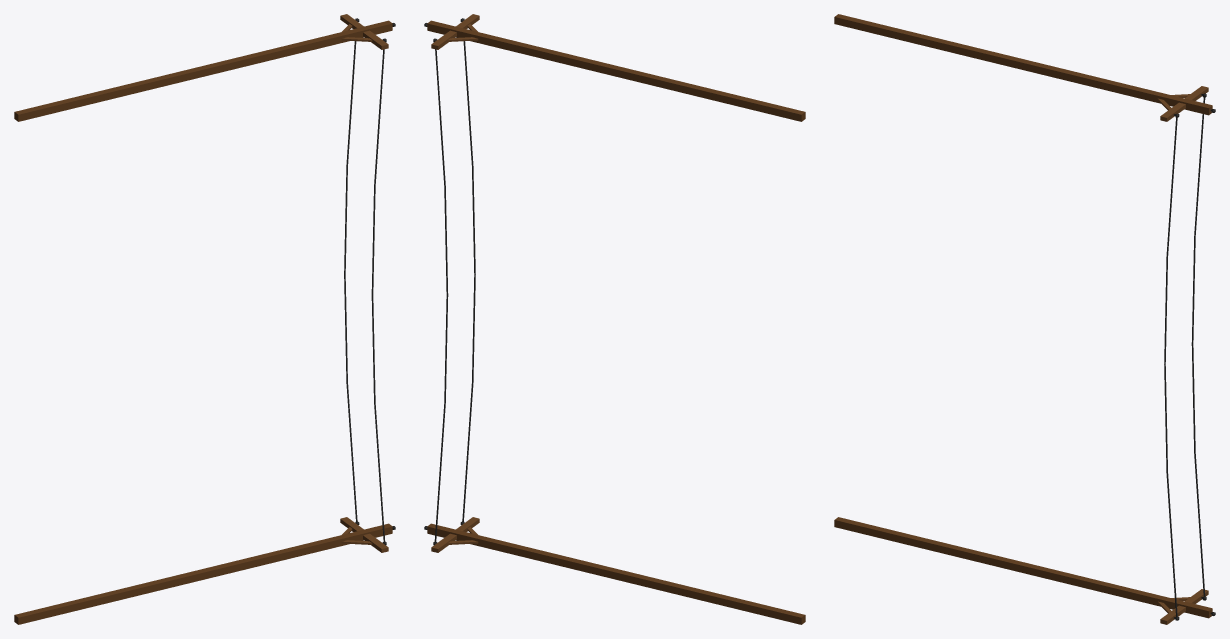
The model's file is PowerLineBroke.fbx.
3 views of the same model, side by side, from view 1: azimuth 30°, elevation 25°; view 2: azimuth 150°, elevation 25°; view 3: azimuth 330°, elevation 25° (orthographic).
Visible parts, largest first — view 1: PowerLine_fracturepart5, PowerLine_fracturepart8, PowerLine_fracturepart15, PowerLine_fracturepart1, PowerLine_fracturepart17, PowerLine_fracturepart7_5, PowerLine_fracturepart13_6, PowerLine_fracturepart13_5; view 2: PowerLine_fracturepart5, PowerLine_fracturepart8, PowerLine_fracturepart15, PowerLine_fracturepart1, PowerLine_fracturepart17, PowerLine_fracturepart13_6, PowerLine_fracturepart13_5, PowerLine_fracturepart7_5; view 3: PowerLine_fracturepart5, PowerLine_fracturepart8, PowerLine_fracturepart15, PowerLine_fracturepart1, PowerLine_fracturepart17, PowerLine_fracturepart13_6, PowerLine_fracturepart13_5, PowerLine_fracturepart7_5.
Boxes of the visible parts, x1,y1,x2,y2 form: PowerLine_fracturepart5: (164, 555, 261, 588); PowerLine_fracturepart8: (258, 532, 356, 565); PowerLine_fracturepart15: (14, 95, 87, 121); PowerLine_fracturepart1: (138, 67, 202, 91); PowerLine_fracturepart17: (198, 53, 260, 76); PowerLine_fracturepart7_5: (371, 49, 384, 295); PowerLine_fracturepart13_6: (371, 295, 385, 542); PowerLine_fracturepart13_5: (344, 275, 357, 518); PowerLine_fracturepart5: (558, 555, 656, 588); PowerLine_fracturepart8: (463, 532, 561, 565); PowerLine_fracturepart15: (732, 95, 805, 121); PowerLine_fracturepart1: (617, 67, 681, 91); PowerLine_fracturepart17: (559, 53, 620, 76); PowerLine_fracturepart13_6: (462, 275, 475, 522); PowerLine_fracturepart13_5: (435, 295, 448, 538); PowerLine_fracturepart7_5: (463, 41, 475, 275); PowerLine_fracturepart5: (983, 553, 1080, 586); PowerLine_fracturepart8: (1077, 576, 1174, 609); PowerLine_fracturepart15: (834, 14, 906, 40); PowerLine_fracturepart1: (958, 44, 1021, 68); PowerLine_fracturepart17: (1018, 59, 1079, 82); PowerLine_fracturepart13_6: (1164, 364, 1177, 617); PowerLine_fracturepart13_5: (1191, 344, 1204, 592); PowerLine_fracturepart7_5: (1164, 117, 1177, 364).
Bounding box in the file's own units: 551 × 710 × 105.
1 material, 1 textured.
